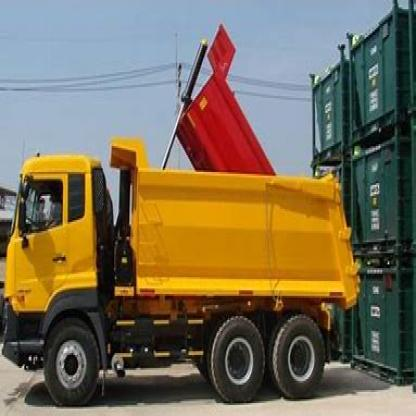dump_truck: (6, 128, 360, 400)
